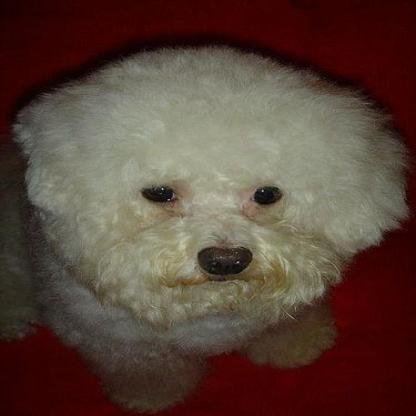toy_poodle: (5, 45, 407, 394)
